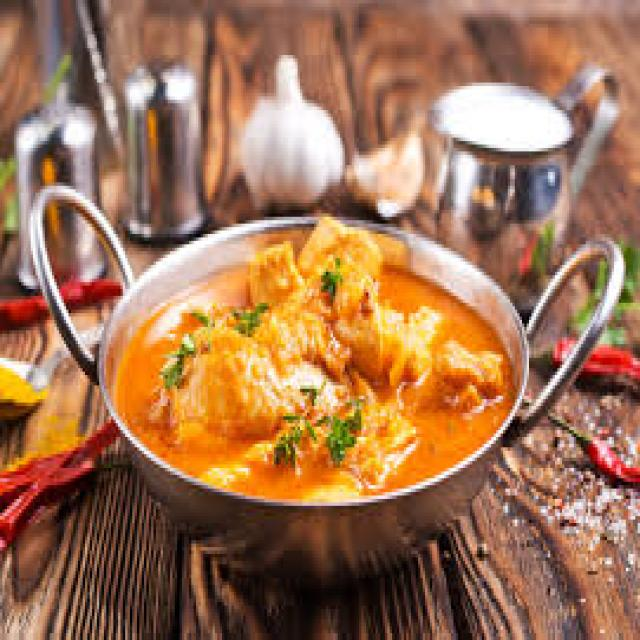Frango: (109, 220, 524, 506)
